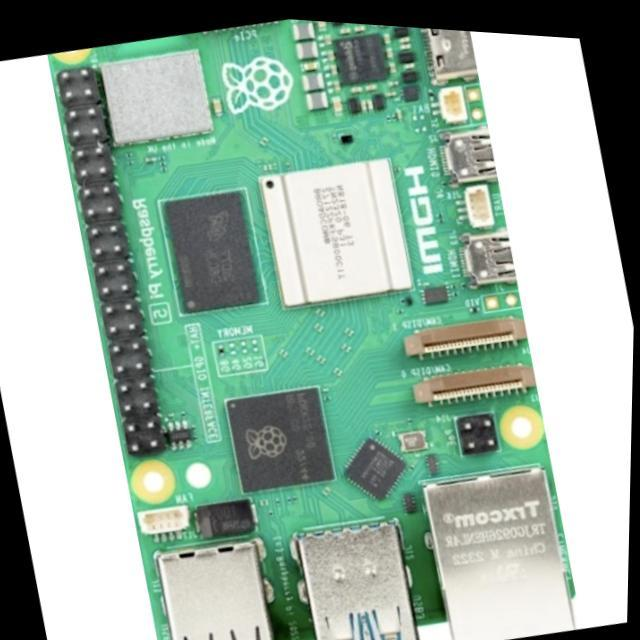Raspberry-Pi-5: (51, 22, 574, 640)
